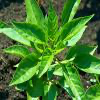Bell_pepper leaf: (6, 52, 41, 86), (7, 17, 46, 47), (60, 13, 95, 45), (61, 63, 87, 99), (66, 43, 99, 65), (24, 0, 45, 28), (61, 0, 82, 26), (39, 47, 54, 79), (47, 0, 58, 40), (27, 75, 44, 99), (41, 80, 57, 100)
